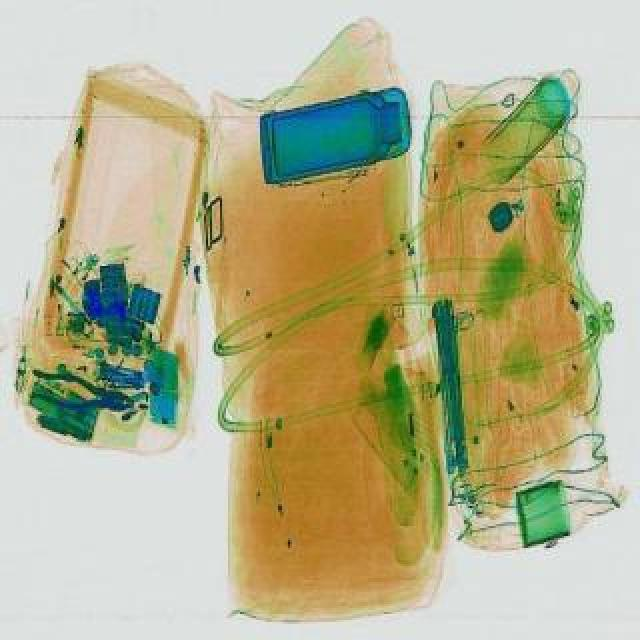wrench: (24, 366, 136, 418)
